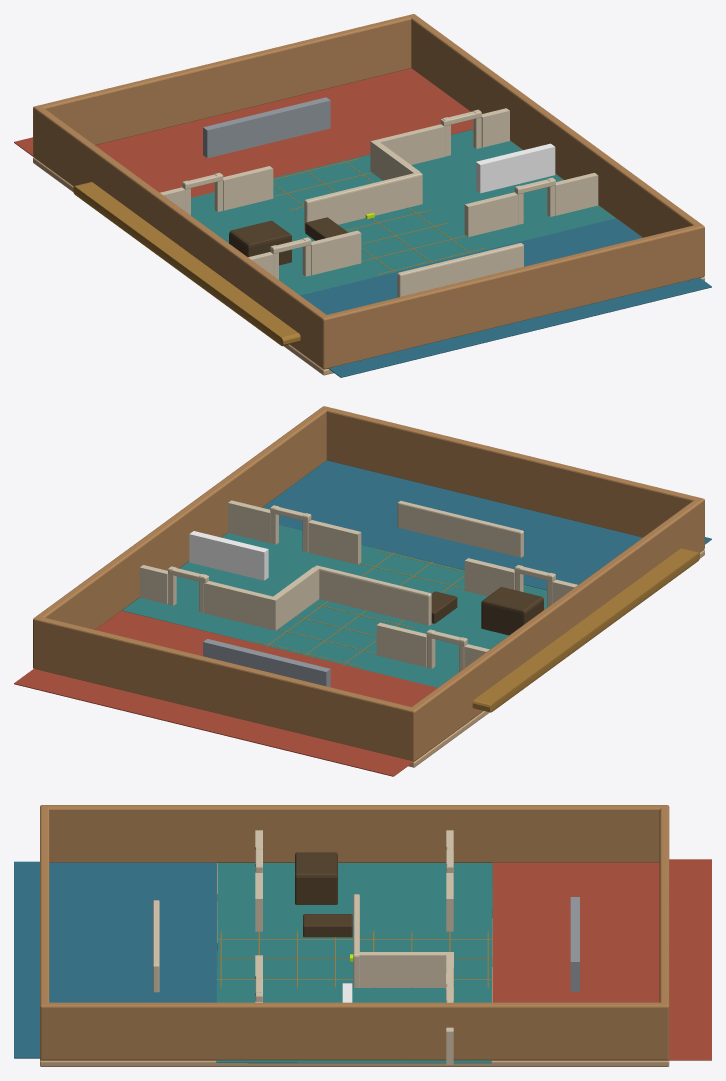
Rendered from sunline-arena.glb.
3 renders of one model, top to bottom at view 1: azimuth 30°, elevation 25°; view 2: azimuth 150°, elevation 25°; view 3: azimuth 270°, elevation 25°, orthographic. The views are drawn at different scales.
Visible parts, largest first — view 1: Central_Open_Mid, South_Perimeter, North_Perimeter, North_Site_Platform, East_Perimeter, West_Perimeter, South_Site_Platform, Web cube (×2), Side_-1_-4_cap, Spawn_Windbreak_292, Spawn_Windbreak_-292, Wall_East_South_Inner (+9 smaller); view 2: North_Perimeter, Central_Open_Mid, South_Perimeter, South_Site_Platform, North_Site_Platform, East_Perimeter, West_Perimeter, Side_-1_-4_cap, Web cube (×2), Spawn_Windbreak_292, Spawn_Windbreak_-292, Wall_East_North_Inner (+8 smaller); view 3: East_Perimeter, West_Perimeter, North_Site_Platform, Central_Open_Mid, South_Site_Platform, Arena_Foundation, Wall_East_Alley_North, North_Perimeter, Side_-1_-4_base, South_Perimeter, Mid_West_Cover_base, Web cube (+4 smaller).
Part boxes in pixels (left/top/right/bottom): Central_Open_Mid: left=191, top=129, right=615, bottom=295; South_Perimeter: left=320, top=225, right=703, bottom=369; North_Perimeter: left=33, top=15, right=416, bottom=158; North_Site_Platform: left=14, top=68, right=472, bottom=197; East_Perimeter: left=409, top=14, right=704, bottom=277; West_Perimeter: left=33, top=106, right=329, bottom=368; South_Site_Platform: left=300, top=218, right=711, bottom=377; Web cube (×2): left=203, top=97, right=555, bottom=193; Side_-1_-4_cap: left=73, top=182, right=300, bottom=346; Spawn_Windbreak_292: left=304, top=172, right=422, bottom=230; Spawn_Windbreak_-292: left=397, top=243, right=523, bottom=297; Wall_East_South_Inner: left=464, top=192, right=517, bottom=236; North_Perimeter: left=34, top=616, right=417, bottom=761; Central_Open_Mid: left=122, top=525, right=546, bottom=687; South_Perimeter: left=322, top=406, right=704, bottom=550; South_Site_Platform: left=262, top=460, right=711, bottom=590; North_Site_Platform: left=14, top=610, right=437, bottom=776; East_Perimeter: left=33, top=406, right=328, bottom=669; West_Perimeter: left=408, top=499, right=704, bottom=761; Side_-1_-4_cap: left=472, top=548, right=699, bottom=712; Web cube (×2): left=189, top=531, right=330, bottom=687; Spawn_Windbreak_292: left=314, top=565, right=431, bottom=625; Spawn_Windbreak_-292: left=397, top=500, right=523, bottom=557; Wall_East_North_Inner: left=204, top=581, right=273, bottom=630; East_Perimeter: left=40, top=1002, right=669, bottom=1060; West_Perimeter: left=40, top=805, right=669, bottom=862; North_Site_Platform: left=492, top=859, right=711, bottom=1060; Central_Open_Mid: left=216, top=863, right=492, bottom=1063; South_Site_Platform: left=14, top=861, right=216, bottom=1058; Arena_Foundation: left=40, top=863, right=669, bottom=1066; Wall_East_Alley_North: left=359, top=952, right=453, bottom=987; North_Perimeter: left=659, top=805, right=669, bottom=1059; Side_-1_-4_base: left=295, top=852, right=337, bottom=904; South_Perimeter: left=40, top=805, right=49, bottom=1060; Mid_West_Cover_base: left=303, top=914, right=352, bottom=937; Web cube: left=570, top=897, right=579, bottom=991.
Size of the model in its own units: 53.28 by 8.19 by 73.19.
